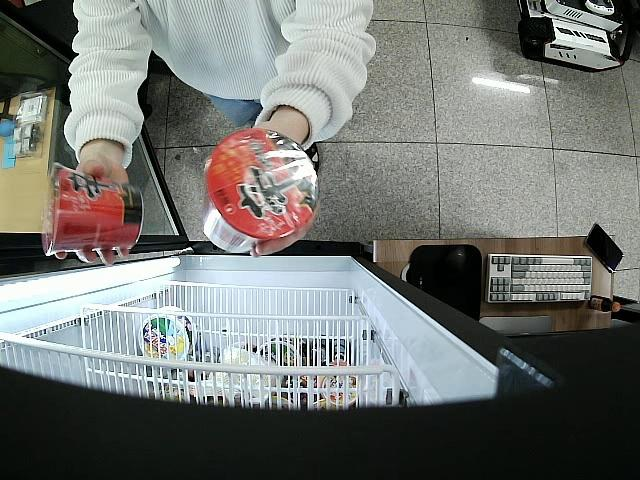00_hand: (249, 123, 319, 257), (55, 154, 131, 266)
02_shinRamen_S: (199, 129, 319, 253), (43, 162, 144, 256)
